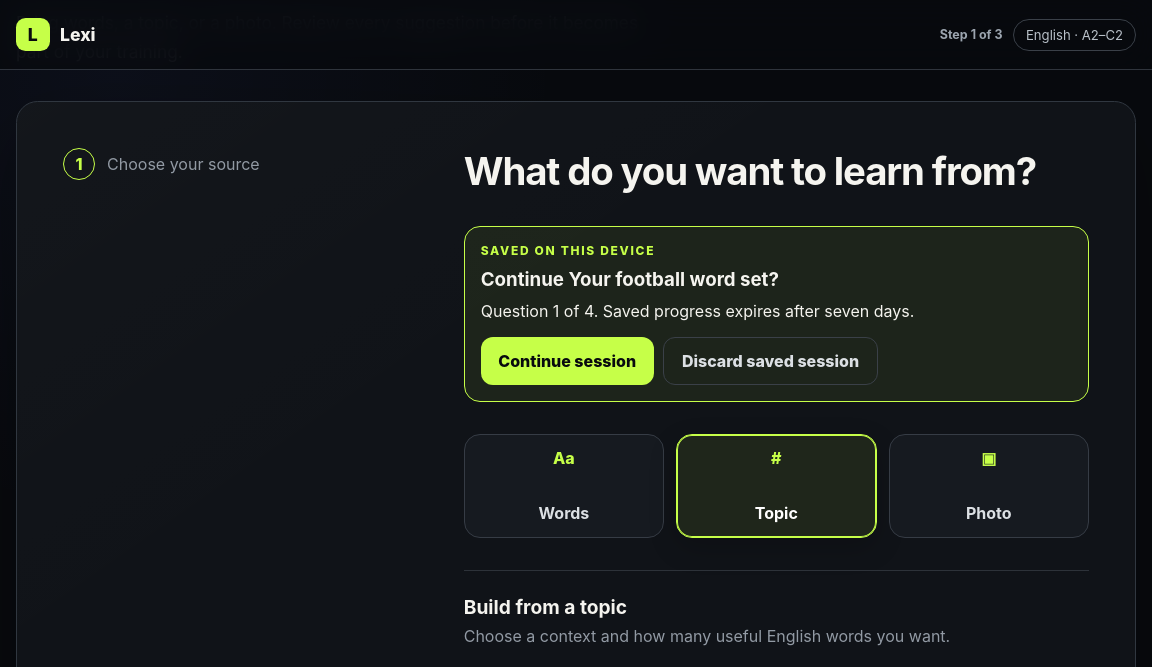
VocabularyPage › discards an interrupted session without restoring it
(page scrolled)
Click the button "Discard saved session".
click(770, 360)  # box [663, 336, 878, 384]
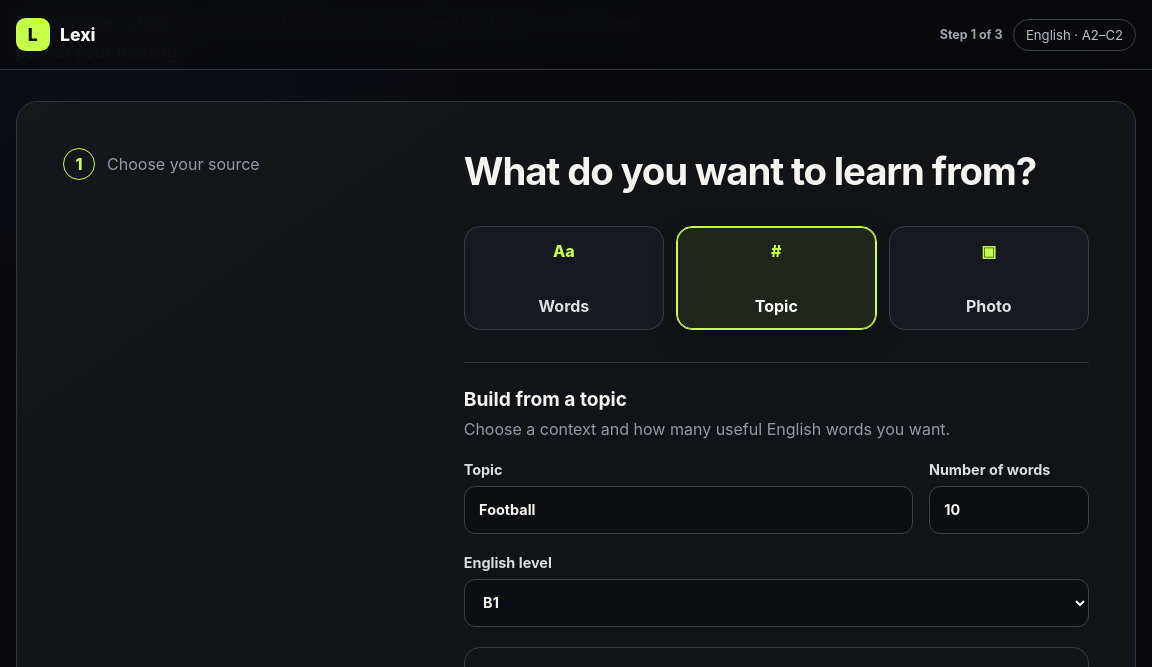
Expected: the heading "What do you want to learn from?" is shown, [464, 148, 1089, 194]
Expected: the button "Continue session" is gone
